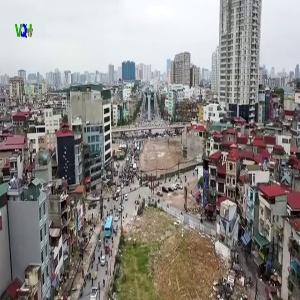drone: (263, 164, 289, 190)
